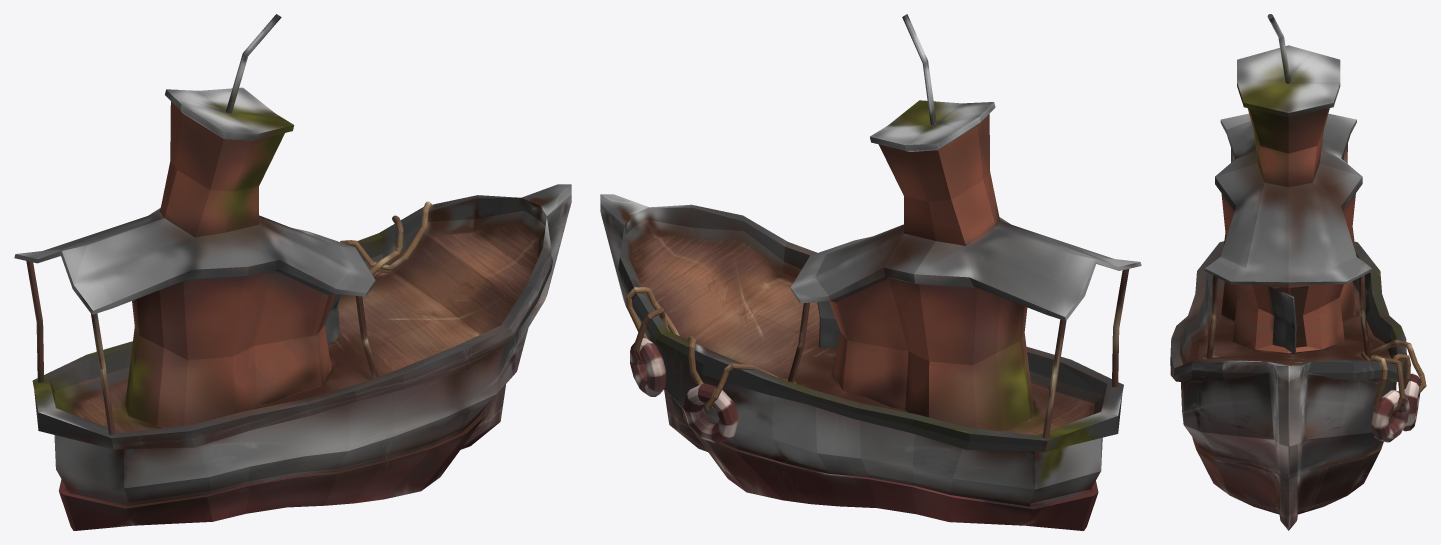
Rendered from Barco.fbx.
3 renders of one model, left to right at view 1: azimuth 30°, elevation 25°; view 2: azimuth 150°, elevation 25°; view 3: azimuth 270°, elevation 25°, orthographic. The views are drawn at different scales.
Parts seen in each view (by area): view 1: Barco; view 2: Barco; view 3: Barco.
Part boxes in pixels (<box>): Barco: <box>14,14,571,530</box>; Barco: <box>600,14,1141,530</box>; Barco: <box>1170,14,1426,530</box>.
Bounding box in the file's own units: 925 × 820 × 438.
